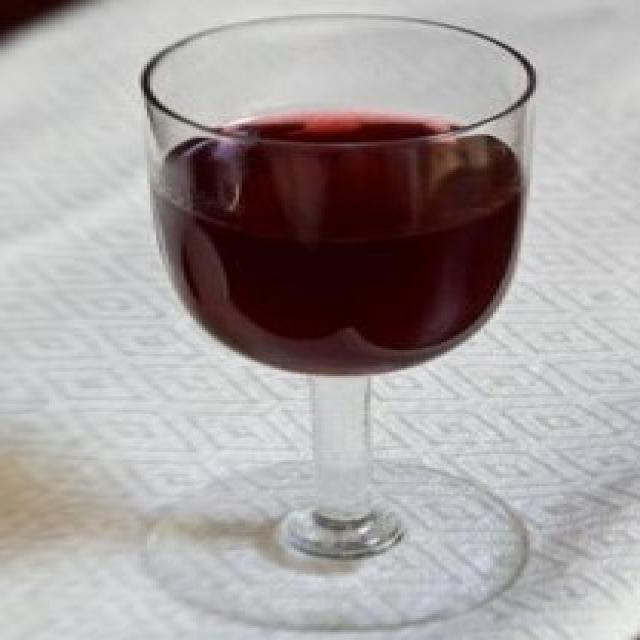electronic: (132, 14, 542, 630)
